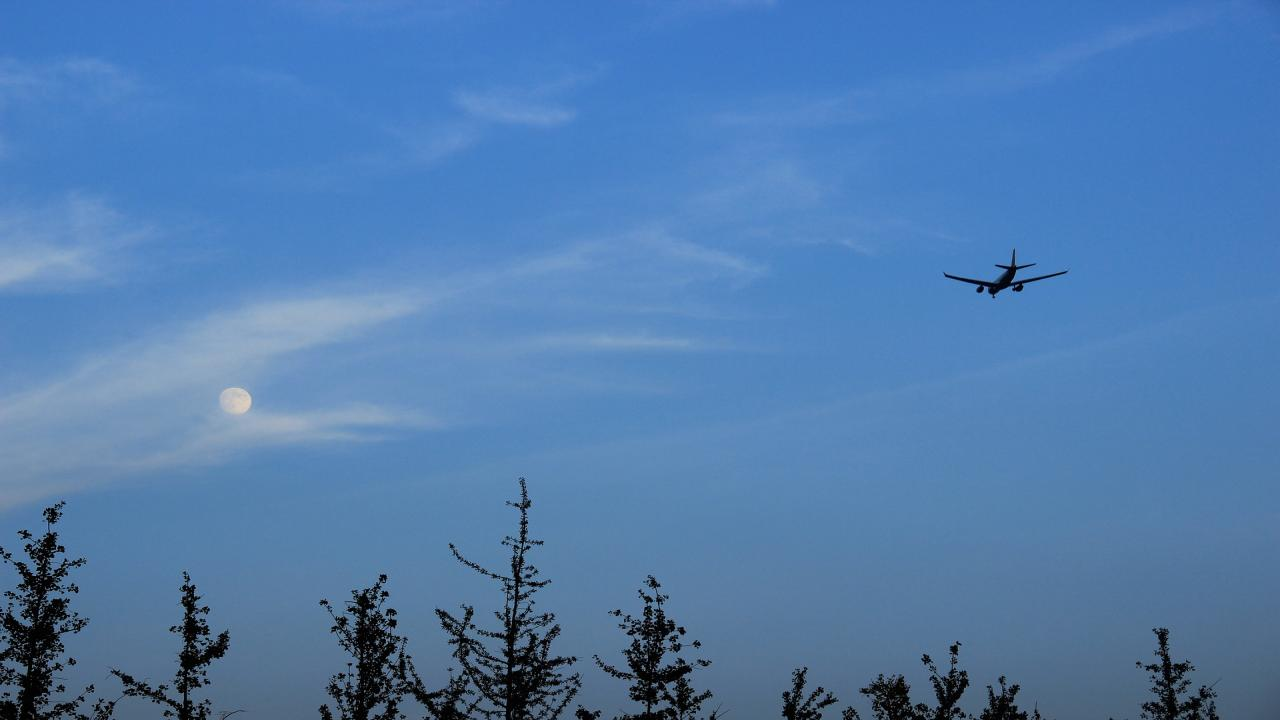Airplane: (934, 240, 1080, 304)
